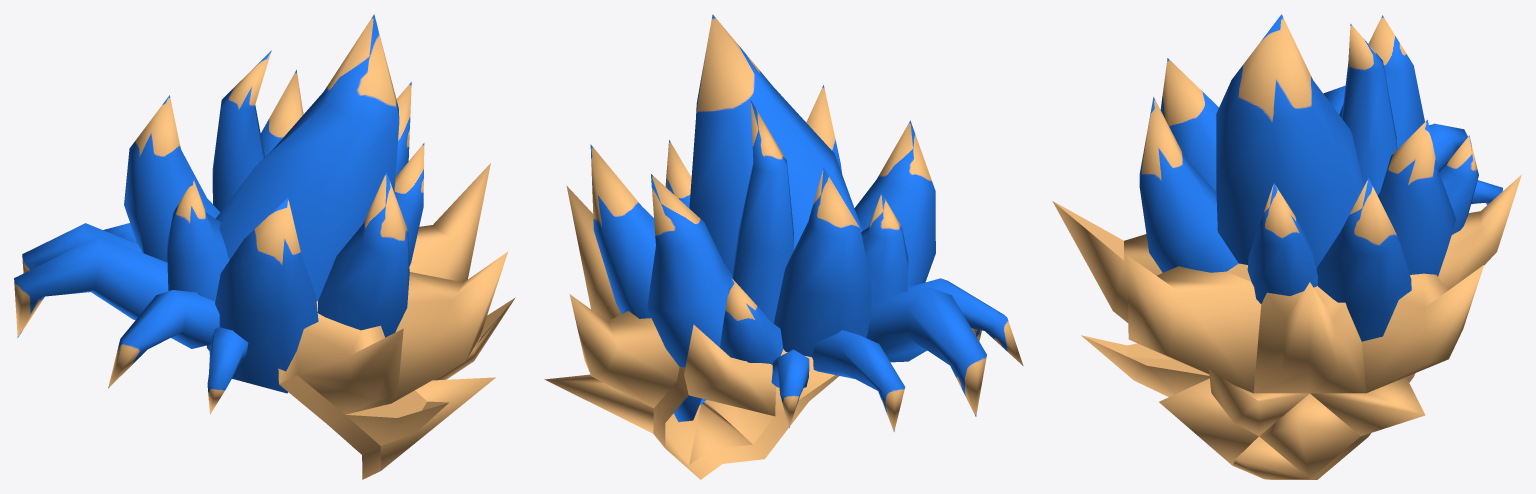
File: songoku hair.FBX
3 views of the same model, side by side, from view 1: azimuth 30°, elevation 25°; view 2: azimuth 150°, elevation 25°; view 3: azimuth 270°, elevation 25° (orthographic). The views are drawn at different scales.
Visible parts, largest first — view 1: Object403; view 2: Object403; view 3: Object403.
Boxes of the visible parts, left/top/right/bottom form: Object403: left=14, top=14, right=515, bottom=479; Object403: left=544, top=14, right=1023, bottom=479; Object403: left=1052, top=14, right=1521, bottom=479.
Bounding box in the file's own units: 1.82 × 1.76 × 1.6.
